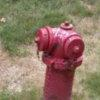Hydrant: (28, 14, 89, 100)
